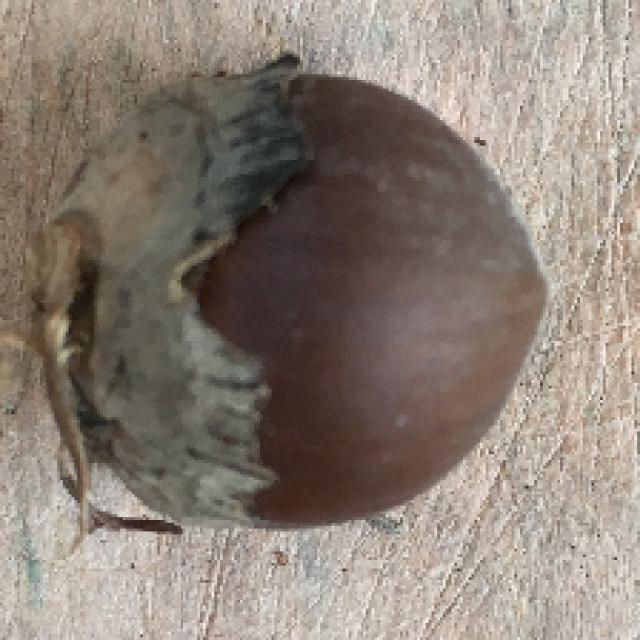damagedHazelnut: (34, 55, 544, 532)
